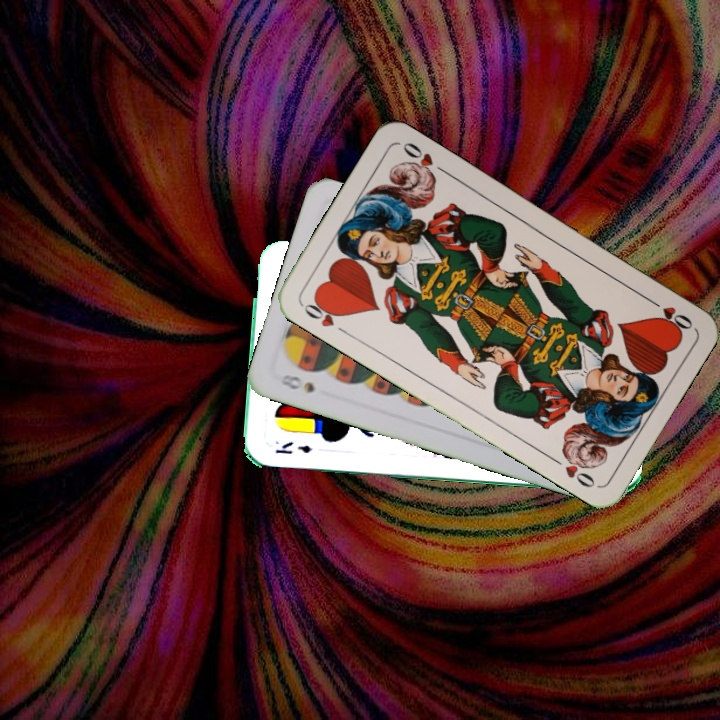EK: (271, 437, 314, 456)
HO: (298, 294, 351, 338), (643, 293, 696, 333)
S8: (276, 370, 318, 396)
